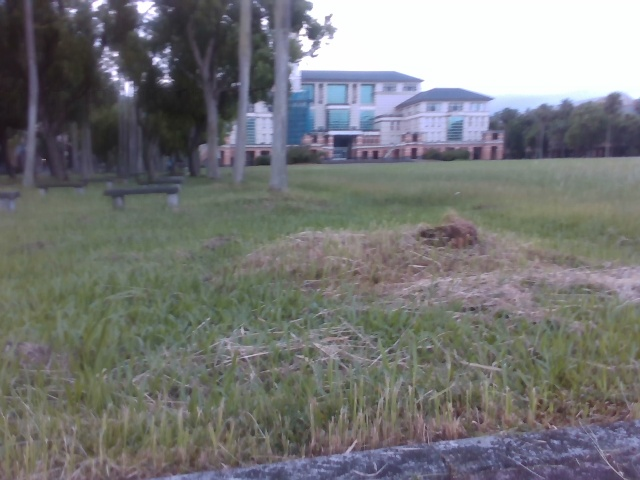grass: (0, 155, 639, 479), (0, 0, 273, 181), (491, 93, 639, 159), (289, 0, 337, 72)
road: (471, 437, 639, 479)
